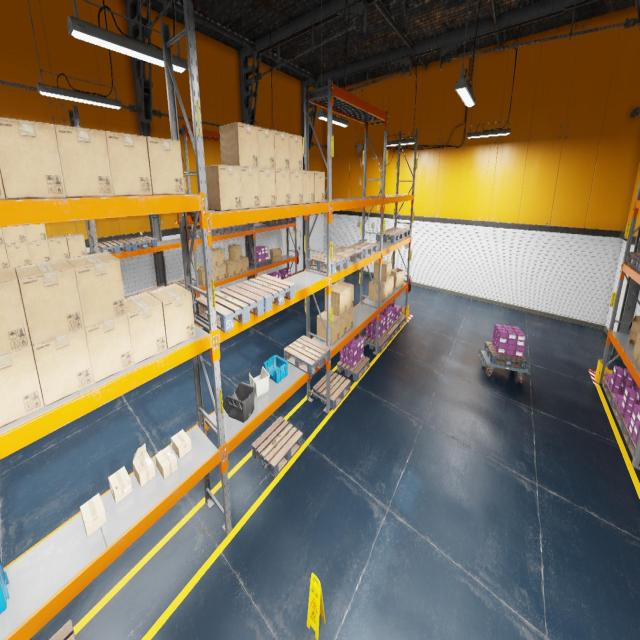box: (15, 258, 84, 345), (0, 118, 66, 198), (30, 328, 94, 406), (66, 252, 126, 327), (54, 125, 114, 198), (0, 346, 44, 428), (84, 314, 134, 383), (105, 131, 152, 196), (125, 292, 167, 364), (148, 284, 195, 348), (0, 267, 31, 355), (146, 136, 185, 194), (219, 121, 258, 168), (205, 165, 242, 211), (80, 493, 106, 536), (133, 443, 155, 487), (108, 466, 132, 503), (240, 167, 260, 209), (317, 310, 339, 345), (257, 126, 275, 168), (156, 446, 178, 478), (325, 284, 347, 316), (259, 168, 276, 208), (5, 242, 31, 268), (274, 130, 290, 169), (332, 281, 353, 310), (171, 429, 191, 458), (275, 169, 290, 206), (27, 240, 51, 263), (47, 235, 69, 260), (64, 233, 86, 257), (1, 225, 27, 244), (289, 133, 302, 170), (290, 170, 303, 205), (368, 279, 386, 302), (24, 224, 47, 242), (627, 315, 640, 346), (373, 260, 391, 282), (303, 170, 314, 203), (314, 171, 325, 203), (375, 279, 390, 299), (390, 268, 405, 287), (632, 331, 640, 364), (211, 248, 225, 265), (228, 244, 242, 260), (339, 311, 347, 338), (0, 244, 9, 268), (225, 259, 236, 276), (230, 259, 242, 274), (347, 306, 353, 332), (270, 248, 281, 262), (0, 171, 5, 199), (218, 264, 226, 280), (198, 266, 205, 284), (211, 250, 218, 266), (242, 256, 248, 272), (212, 266, 218, 282), (389, 276, 394, 295), (0, 227, 4, 245), (183, 177, 187, 193), (638, 357, 640, 367)
pallets: (195, 285, 264, 332), (252, 417, 302, 477), (235, 274, 295, 312), (284, 335, 330, 376), (312, 370, 350, 409), (484, 342, 527, 369), (337, 355, 370, 381), (310, 253, 349, 274), (622, 422, 640, 464), (326, 246, 363, 265), (602, 378, 621, 406), (364, 332, 390, 352), (348, 241, 378, 258), (123, 236, 157, 251), (49, 620, 75, 639), (611, 398, 626, 430), (98, 240, 131, 253), (167, 279, 195, 291), (376, 230, 403, 242), (383, 322, 399, 340), (188, 228, 214, 239), (386, 227, 411, 238), (626, 251, 640, 269), (137, 285, 164, 294), (392, 314, 406, 330), (249, 259, 271, 268), (212, 227, 232, 236), (230, 224, 249, 232), (262, 218, 283, 224), (279, 217, 294, 223), (125, 294, 137, 298), (638, 259, 640, 271)
